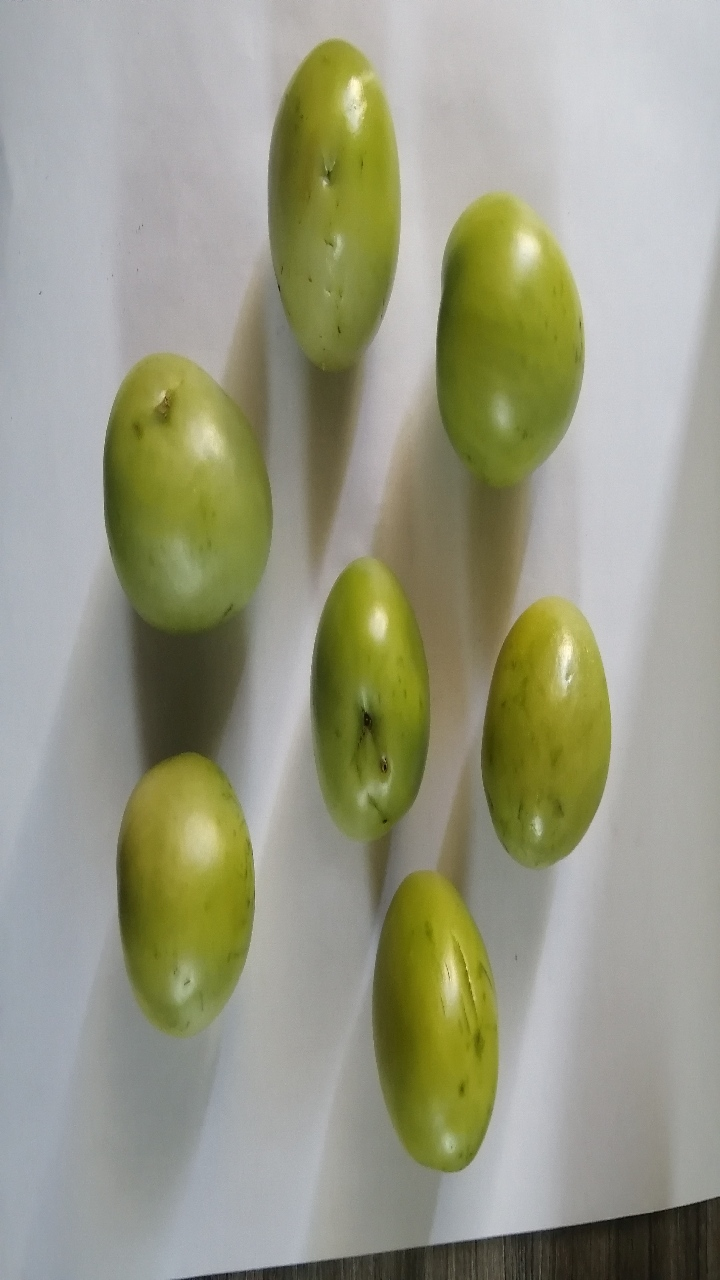tomateVerde: (417, 165, 641, 517), (323, 849, 541, 1202), (68, 326, 297, 660), (88, 712, 297, 1065), (237, 14, 418, 417), (452, 572, 643, 877), (289, 534, 452, 862)
